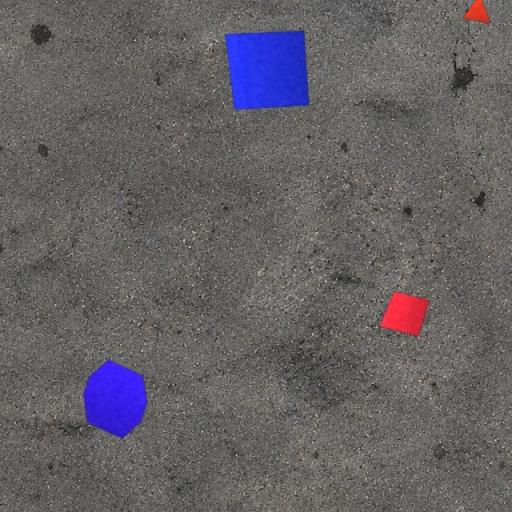BLUE_SQUARE: (224, 30, 310, 110)
RED_SQUARE: (380, 290, 430, 338)
